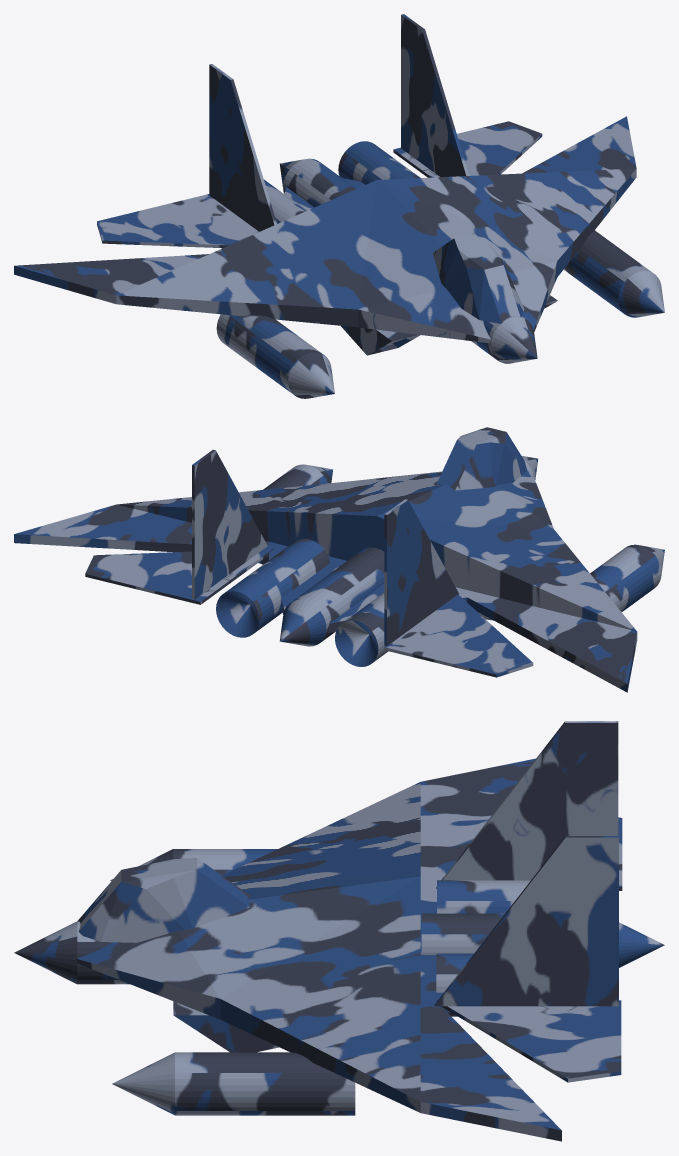
File: boss.obj
3 views of the same model, one above another, from view 1: azimuth 30°, elevation 25°; view 2: azimuth 150°, elevation 25°; view 3: azimuth 270°, elevation 25° (orthographic). The views are drawn at different scales.
Visible parts, largest first — view 1: fighter; view 2: fighter; view 3: fighter.
Part boxes in pixels (x1=…): fighter: x1=14, y1=14, x2=664, y2=398; fighter: x1=14, y1=427, x2=664, y2=692; fighter: x1=14, y1=721, x2=664, y2=1141.
Bounding box in the file's own units: 1.28 × 0.3756 × 0.9306.
Materials: 1 (1 with a texture image).
